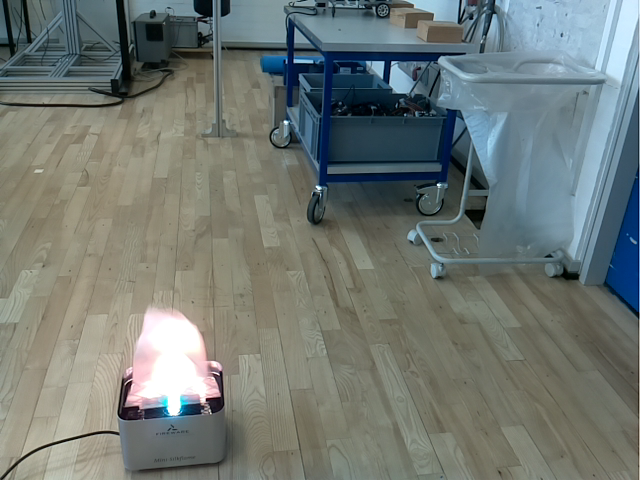fire: (122, 306, 222, 408)
